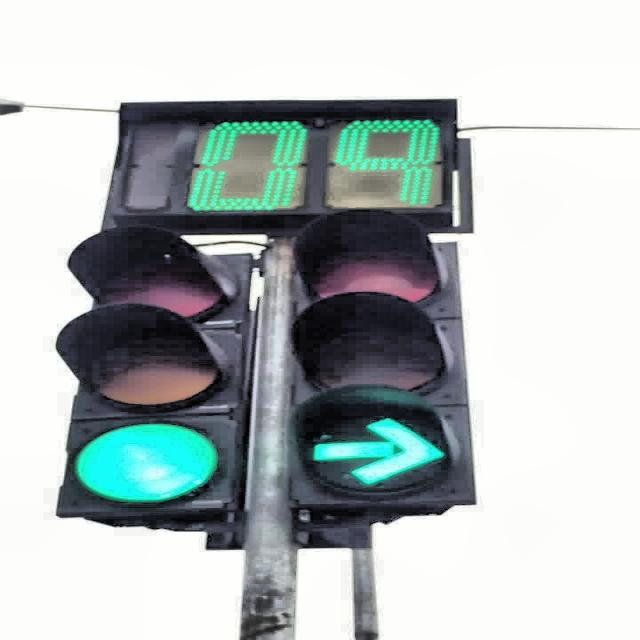green: (55, 225, 249, 518), (288, 209, 474, 506)
